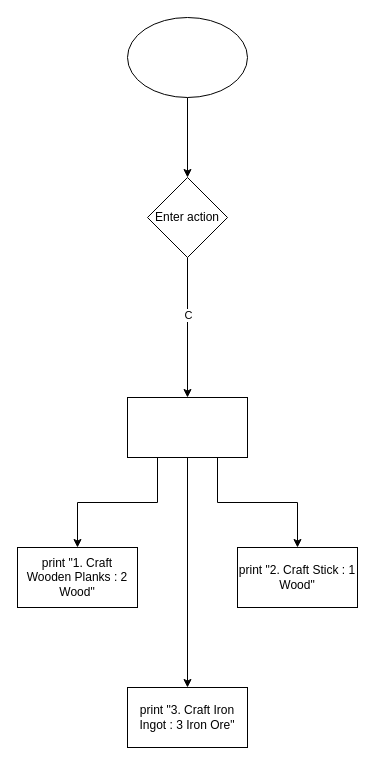
This 375x765 diagram has some shape labels left out. Here are the shapes that lost their labels. From the top down, the centre of each, then its label:
pixel 187 57: START
pixel 187 427: print "Crafting Recipes:"
